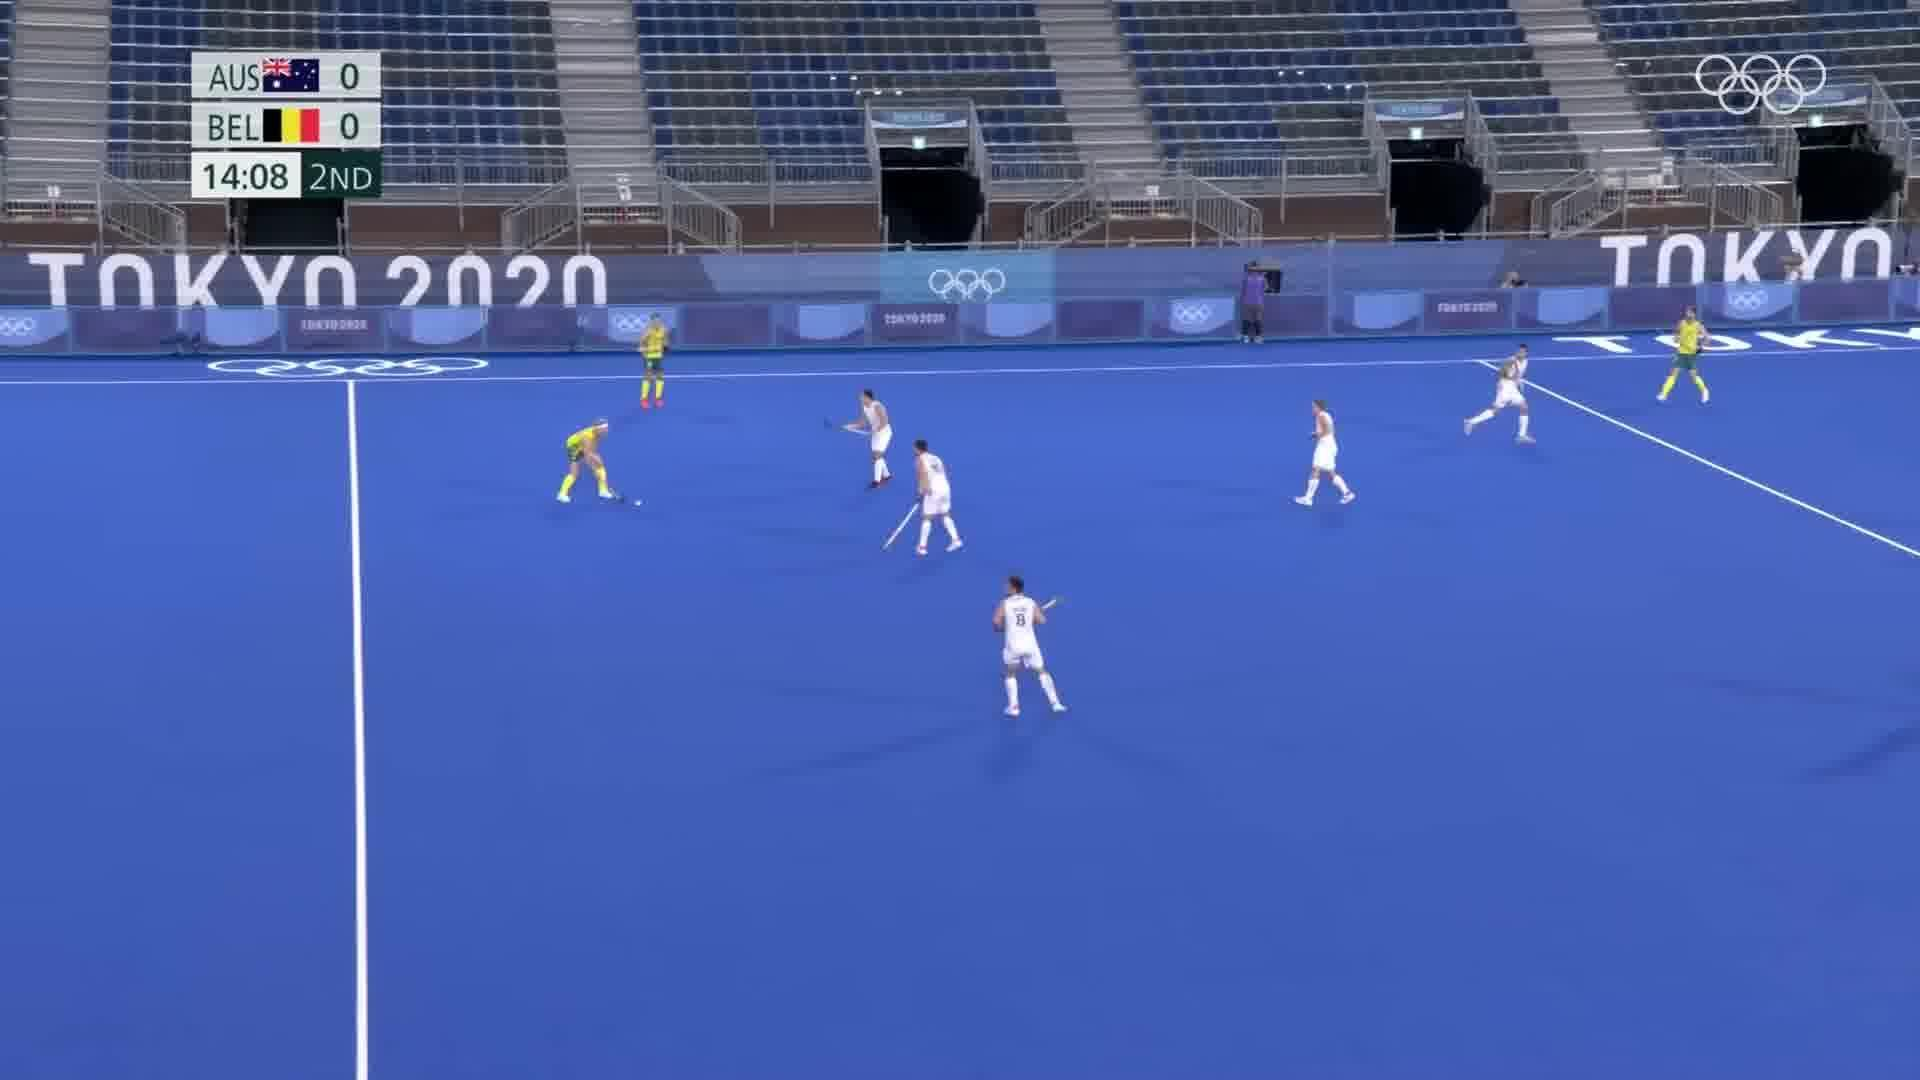ball: (632, 495, 645, 512)
